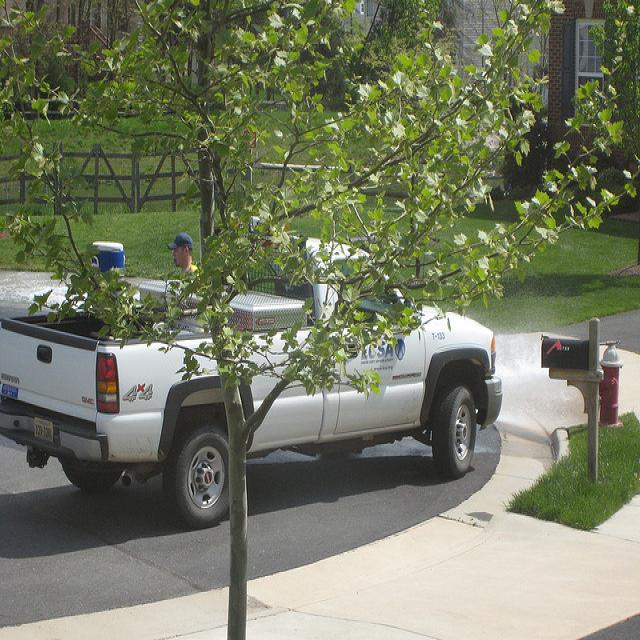fire_hydrant: (598, 340, 623, 427)
